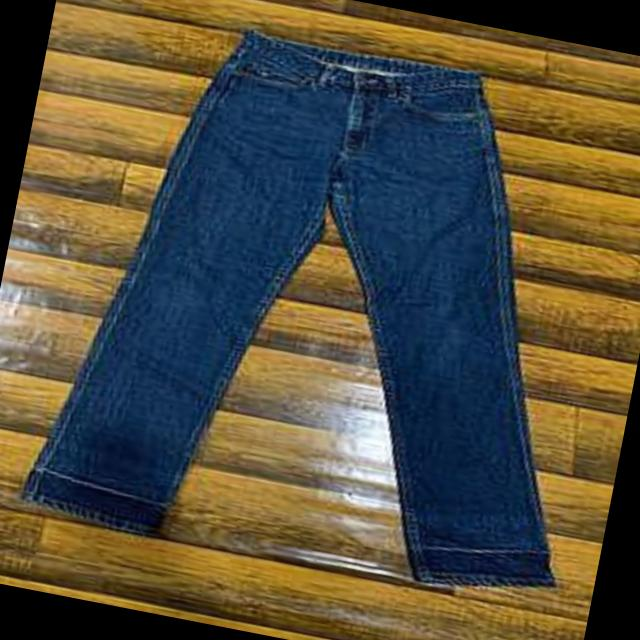TROUSER: (13, 0, 640, 621)
